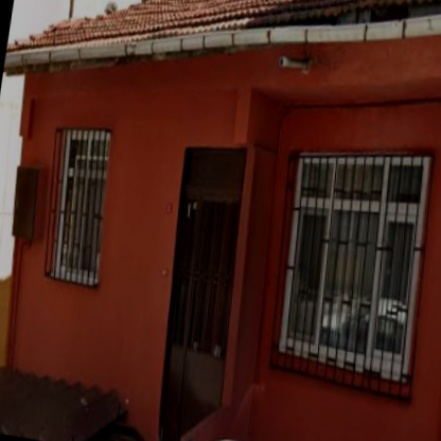door: (153, 181, 244, 441)
